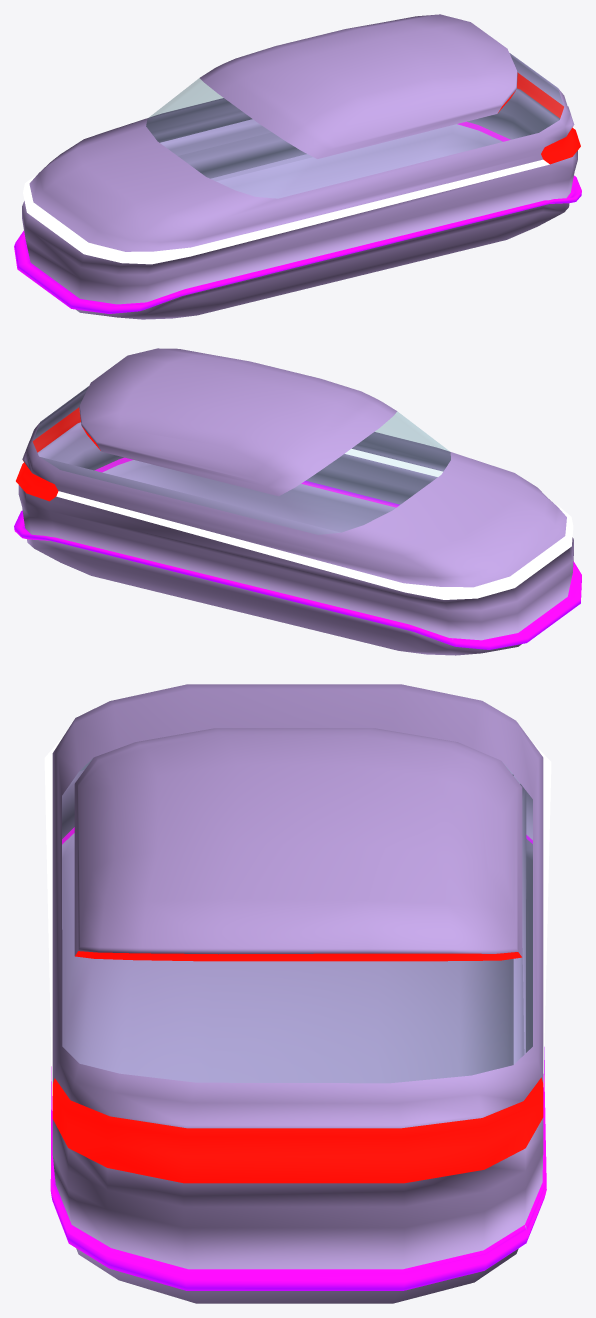
File: car4.glb
3 renders of one model, top to bottom at view 1: azimuth 30°, elevation 25°; view 2: azimuth 150°, elevation 25°; view 3: azimuth 270°, elevation 25°, orthographic. The views are drawn at different scales.
Parts seen in each view (by area): view 1: Flying car 4; view 2: Flying car 4; view 3: Flying car 4.
Part boxes in pixels (x1,y1,x2,y2): Flying car 4: (14,14,581,319); Flying car 4: (14,348,581,655); Flying car 4: (44,684,551,1303).
Size of the model in its own units: 17.24 by 5.96 by 7.49.
